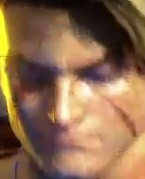kevin: (11, 7, 139, 176)
